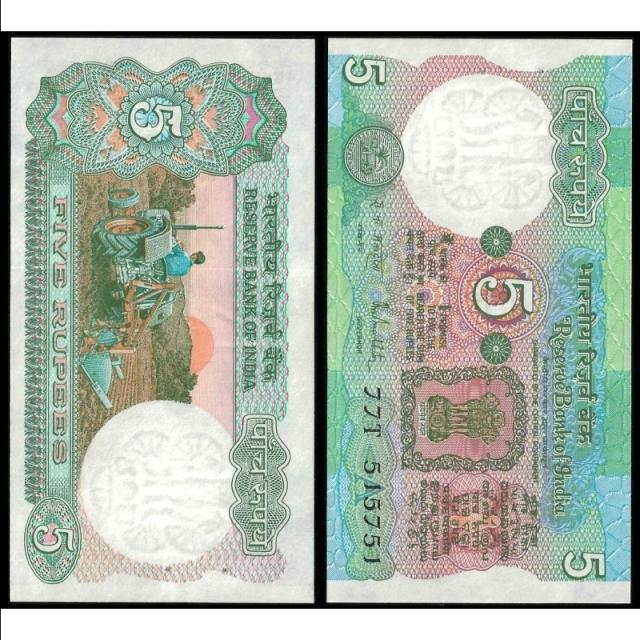5IndianRupees: (15, 40, 313, 596)
